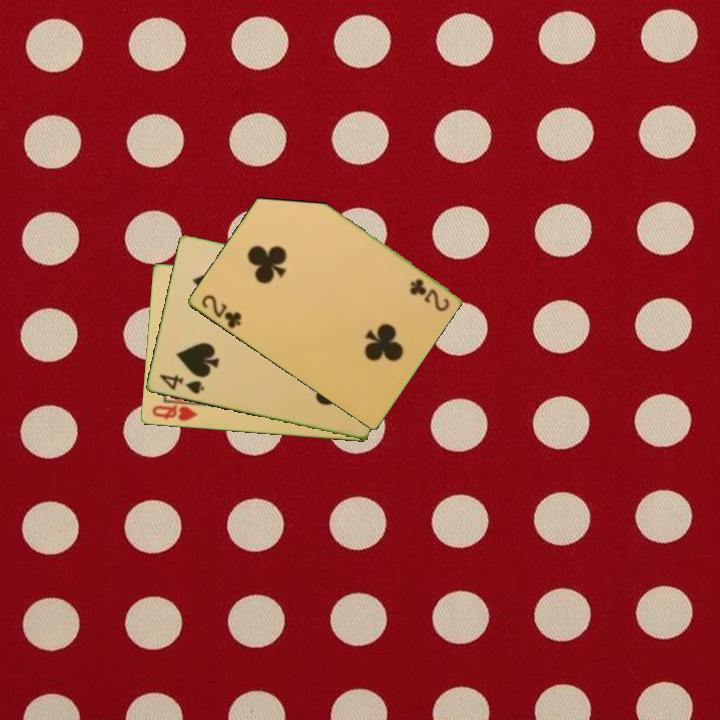2c: (197, 291, 244, 332), (406, 275, 452, 314)
4s: (155, 371, 207, 397)
Qh: (149, 401, 200, 424)
